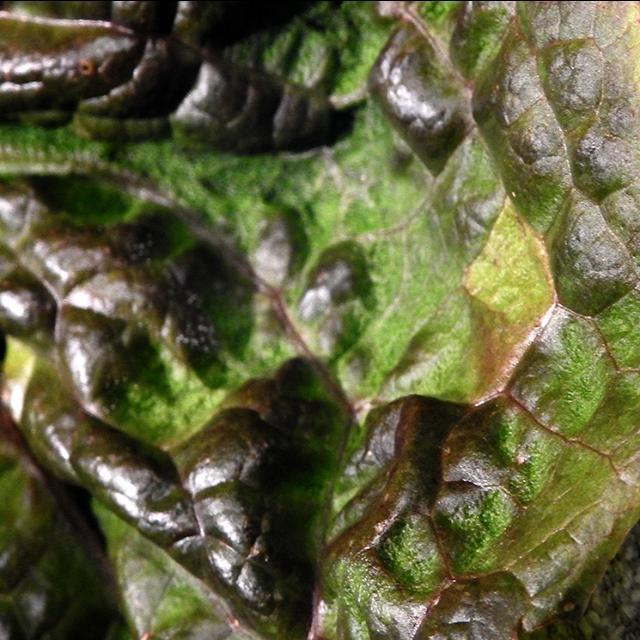Downy_mildew_on_lettuce: (26, 203, 332, 624)
